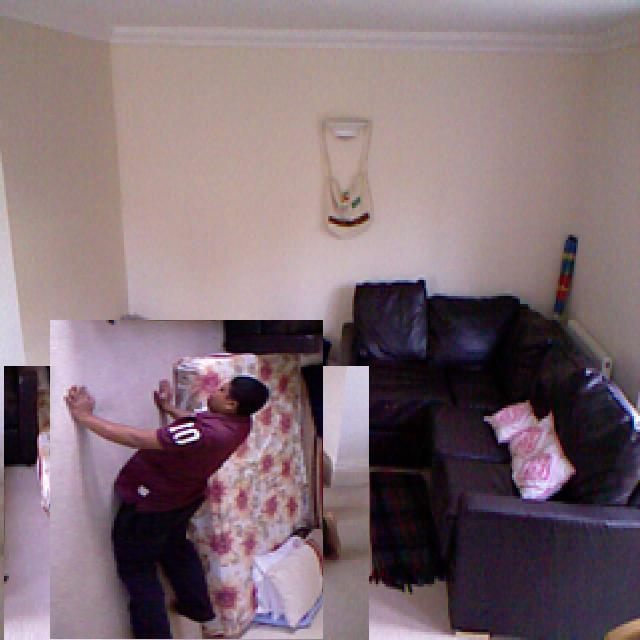Fall: (67, 304, 279, 634)
